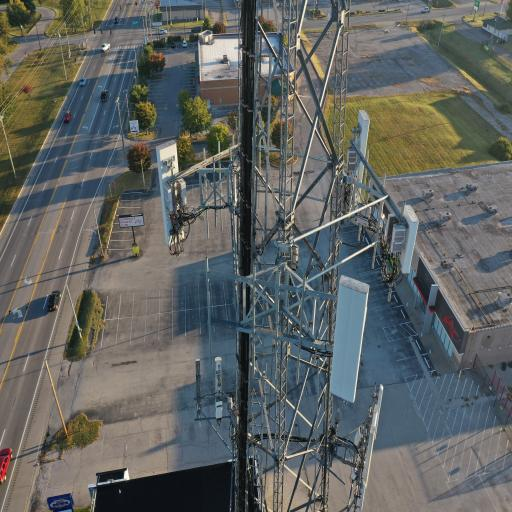supporting_tower: (154, 1, 431, 512)
